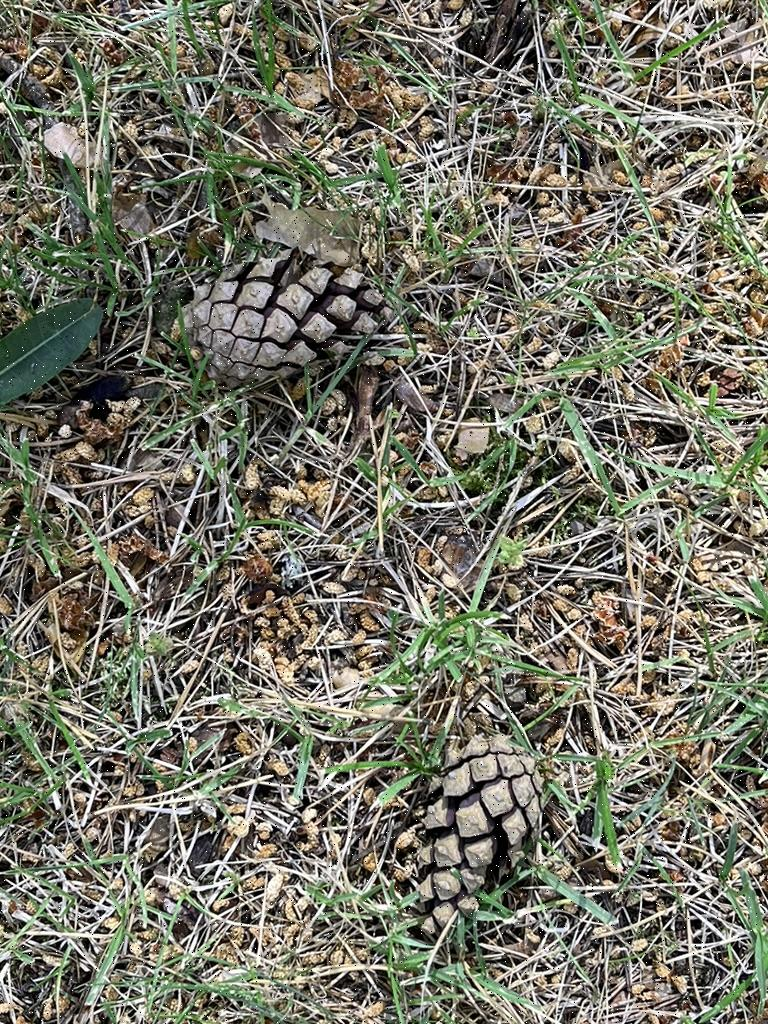pine: (391, 708, 564, 966), (168, 233, 398, 396)
